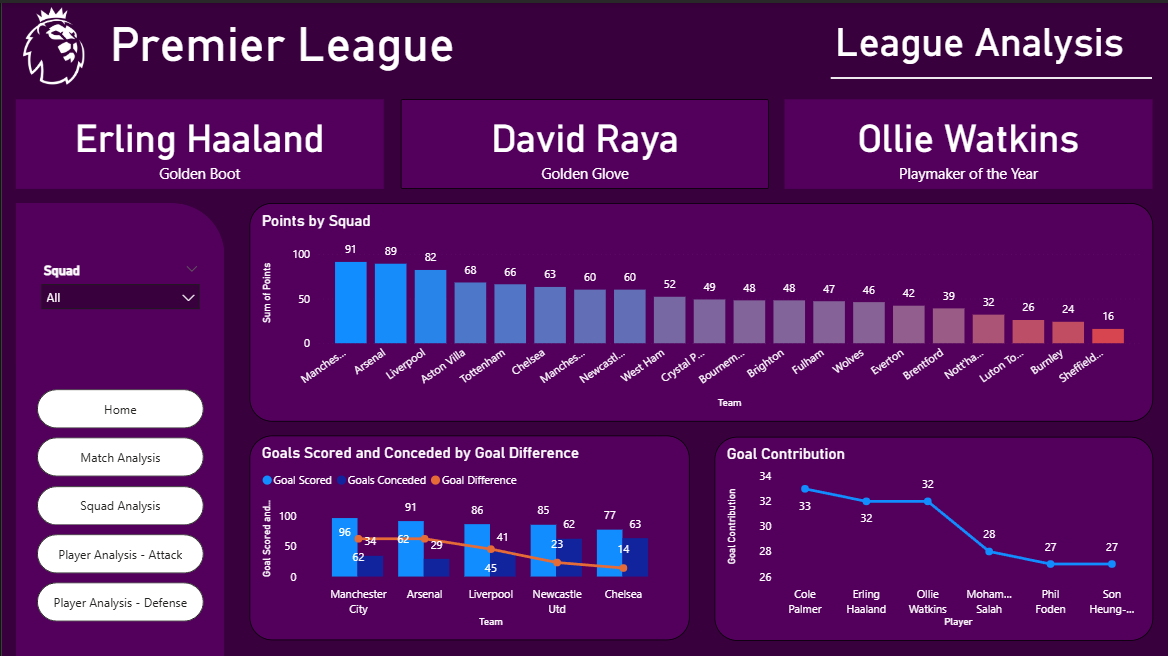

The page's visual inventory and layout, read from the dashboard file:
{"tool":"powerbi","page":{"name":"League Analysis","canvas":[1280,720],"ordinal":1},"visuals":[{"type":"image","box":[0,0,114.3,94.3],"z":0},{"type":"textbox","box":[113.9,9.6,411.7,74.1],"z":1000},{"type":"shape","box":[15.1,219.1,229.2,500.9],"z":2000},{"type":"pageNavigator","box":[38.4,424,183.9,255.2],"z":3000},{"type":"slicer","fields":{"Values":["Point_Table.Squad"]},"box":[32.9,280,194.3,80],"z":4000},{"type":"clusteredColumnChart","title":"Points by Squad","fields":{"Y":["Sum(Point_Table.Points)"],"Category":["Team_List.Team"]},"box":[271.7,219.6,992.1,240.1],"z":5000},{"type":"lineClusteredColumnComboChart","title":"Goals Scored and Conceded by Goal Difference","fields":{"Y":["Sum(Point_Table.Goals For)","Sum(Point_Table.Goals Against)"],"Y2":["Calculation Table.Goal Difference"],"Category":["Team_List.Team"]},"box":[271.7,474.8,483,225],"z":6000},{"type":"card","fields":{"Values":["Calculation Table.Golden Glove"]},"box":[437.1,105.7,404.3,98.6],"z":7000},{"type":"card","fields":{"Values":["Calculation Table.Playmaker of the Year"]},"box":[858.6,105.7,404.3,98.6],"z":8000},{"type":"card","fields":{"Values":["Calculation Table.Golden Boot"]},"box":[15.7,105.7,404.3,98.6],"z":9000},{"type":"lineChart","title":"Goal Contribution ","fields":{"Category":["Player_Stats.Player"],"Y":["Calculation Table.Goal Contribution"]},"box":[782.2,476.2,481.6,223.7],"z":10000},{"type":"textbox","box":[909.8,13.7,352.7,64.5],"z":11000},{"type":"shape","box":[909.8,70,352.7,24.7],"z":12000}]}

Visuals, with their boxes in screenshot pixels (x1, y1, x2, y2), scaled from the page's 1280x720 canvas onto the 1168x656 screenshot:
image: detection(0, 0, 104, 86)
textbox: detection(104, 9, 480, 76)
shape: detection(14, 200, 223, 655)
pageNavigator: detection(35, 386, 203, 619)
slicer - Point_Table.Squad: detection(30, 255, 207, 328)
"Points by Squad" clusteredColumnChart: detection(248, 200, 1153, 419)
"Goals Scored and Conceded by Goal Difference" lineClusteredColumnComboChart: detection(248, 433, 689, 638)
card - Calculation Table.Golden Glove: detection(399, 96, 768, 186)
card - Calculation Table.Playmaker of the Year: detection(783, 96, 1152, 186)
card - Calculation Table.Golden Boot: detection(14, 96, 383, 186)
"Goal Contribution " lineChart: detection(714, 434, 1153, 638)
textbox: detection(830, 12, 1152, 71)
shape: detection(830, 64, 1152, 86)
